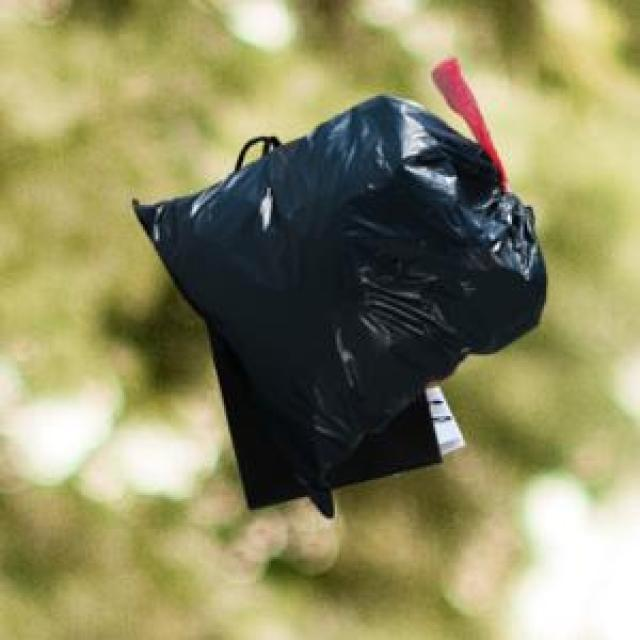miscellaneous trash: (128, 53, 542, 514)
paper: (202, 132, 437, 506), (420, 376, 461, 450)
